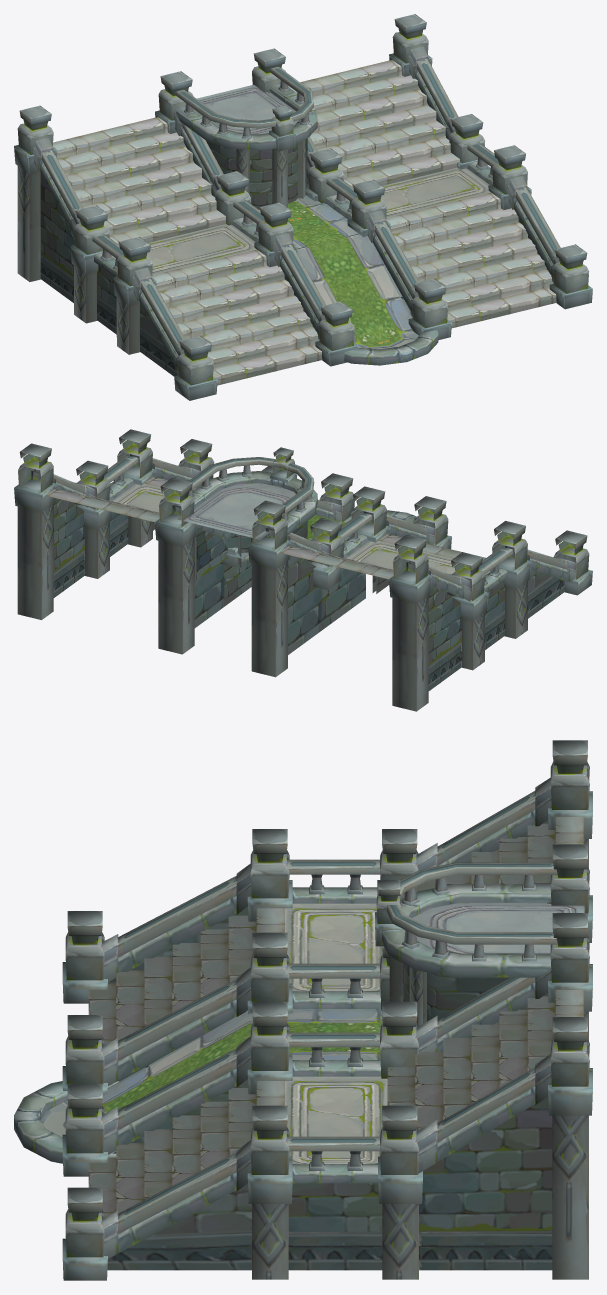
File: Map_06_stairs02.FBX
3 renders of one model, top to bottom at view 1: azimuth 30°, elevation 25°; view 2: azimuth 150°, elevation 25°; view 3: azimuth 270°, elevation 25°, orthographic. The views are drawn at different scales.
Parts seen in each view (by area): view 1: Map_06_stairs02; view 2: Map_06_stairs02; view 3: Map_06_stairs02.
Boxes of the visible parts, <box> form: Map_06_stairs02: <box>14,14,592,400</box>; Map_06_stairs02: <box>14,429,592,711</box>; Map_06_stairs02: <box>14,740,592,1280</box>.
Bounding box in the file's own units: 2144 × 1760 × 828.
